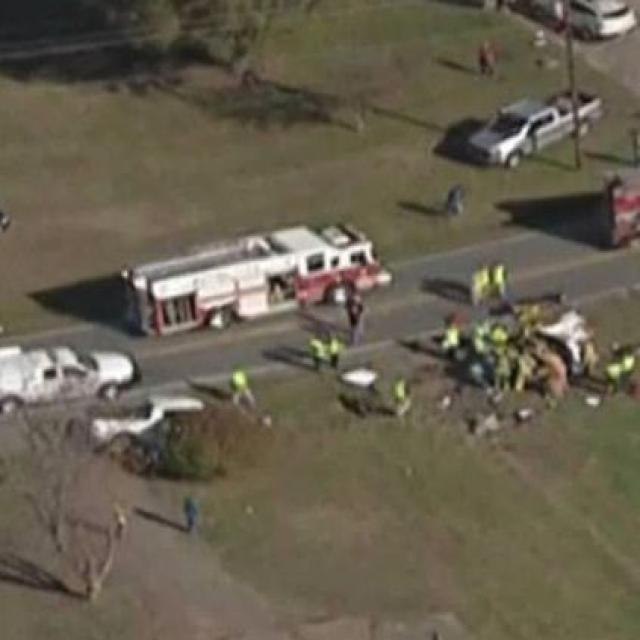traffic_incident: (440, 291, 618, 396)
